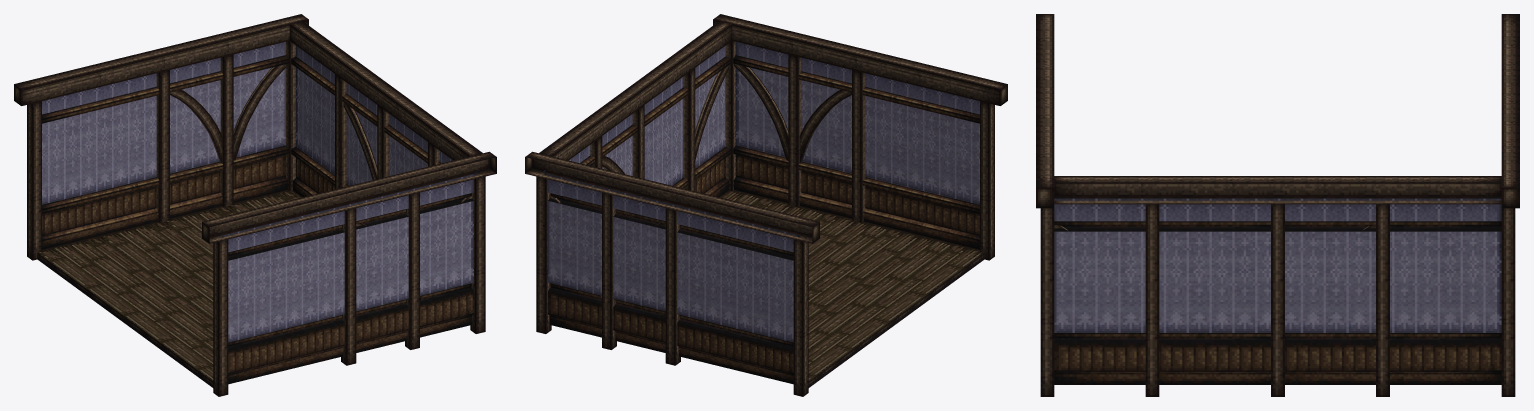
The model's file is EnvBdgMD_City_C_Indoor_House_B.FBX.
3 views of the same model, side by side, from view 1: azimuth 30°, elevation 25°; view 2: azimuth 150°, elevation 25°; view 3: azimuth 270°, elevation 25° (orthographic). The views are drawn at different scales.
Parts seen in each view (by area): view 1: EnvBdgMD_City_C_Indoor_House_B; view 2: EnvBdgMD_City_C_Indoor_House_B; view 3: EnvBdgMD_City_C_Indoor_House_B.
Boxes of the visible parts, x1,y1,x2,y2 form: EnvBdgMD_City_C_Indoor_House_B: (14,14,496,396); EnvBdgMD_City_C_Indoor_House_B: (525,14,1007,396); EnvBdgMD_City_C_Indoor_House_B: (1036,14,1519,396).
Size of the model in its own units: 900 by 520 by 1060.
